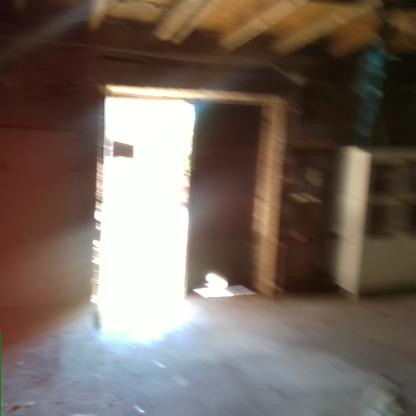semi: (85, 72, 285, 316)
